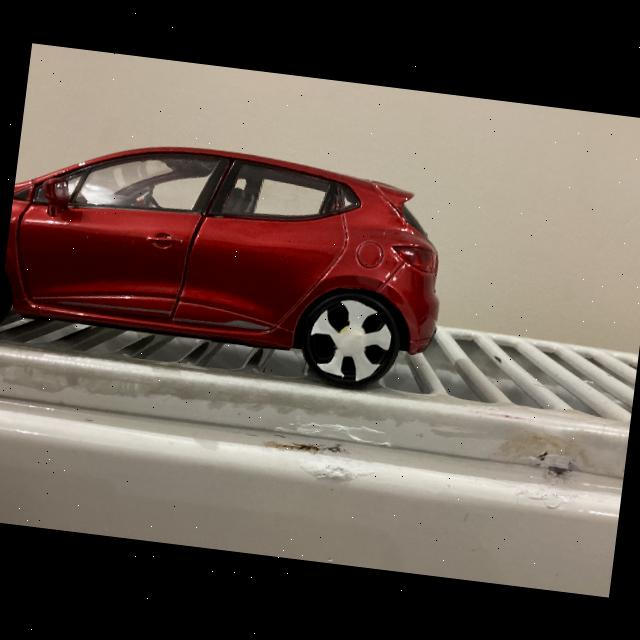Yanlis_Jant: (304, 296, 395, 386)
